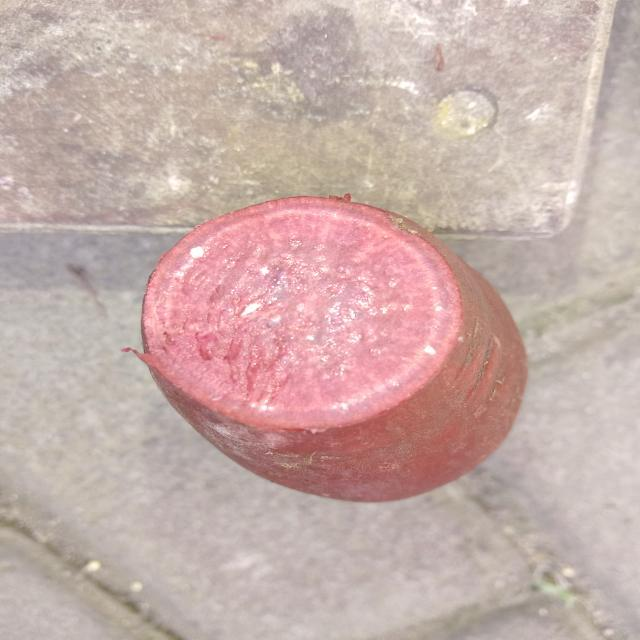Healthy Sweet Potato: (140, 198, 462, 430)
